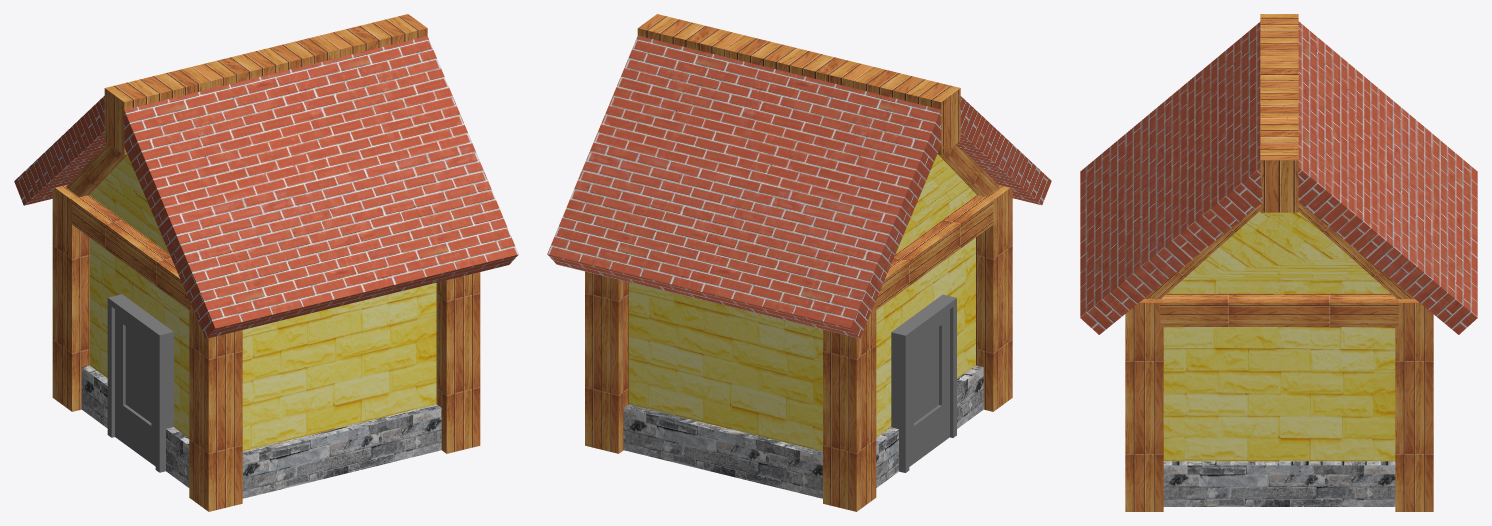
The model's file is CasaProyecto.fbx.
3 views of the same model, side by side, from view 1: azimuth 30°, elevation 25°; view 2: azimuth 150°, elevation 25°; view 3: azimuth 270°, elevation 25° (orthographic).
Visible parts, largest first — view 1: Box014, Box002, Box001, Box003, PivotDoor001, Box013, Box004, Box005, Box007, Box012, Box015, Box016; view 2: Box012, Box002, Box001, Box005, PivotDoor001, Box013, Box006, Box003, Box007, Box014, Box015, Box017; view 3: Box002, Box014, Box012, Box001, Box015, Box004, Box006, Box008, Box013, Box018, Box019.
Boxes of the visible parts, x1,y1,x2,y2 form: Box014: (124, 36, 518, 338); Box002: (89, 187, 436, 451); Box001: (81, 365, 441, 498); Box003: (189, 305, 242, 511); PivotDoor001: (107, 294, 173, 472); Box013: (104, 14, 427, 154); Box004: (436, 272, 480, 453); Box005: (52, 184, 89, 411); Box007: (70, 195, 190, 311); Box012: (14, 96, 108, 205); Box015: (96, 155, 161, 234); Box016: (66, 144, 127, 196); Box012: (547, 35, 941, 338); Box002: (628, 187, 976, 451); Box001: (623, 365, 983, 498); Box005: (823, 300, 876, 511); PivotDoor001: (891, 294, 956, 472); Box013: (637, 14, 960, 154); Box006: (585, 271, 628, 453); Box003: (976, 184, 1012, 411); Box007: (876, 195, 994, 309); Box014: (956, 96, 1051, 205); Box015: (904, 154, 969, 234); Box017: (939, 144, 999, 196); Box002: (1163, 280, 1395, 461); Box014: (1080, 22, 1262, 334); Box012: (1298, 21, 1477, 334); Box001: (1163, 461, 1395, 506); Box015: (1182, 211, 1375, 280); Box004: (1125, 299, 1163, 511); Box006: (1395, 299, 1433, 511); Box008: (1160, 293, 1398, 326); Box013: (1260, 14, 1298, 212); Box018: (1298, 202, 1414, 298); Box019: (1144, 205, 1260, 298).
Bounding box in the file's own units: 90 × 103 × 103.
